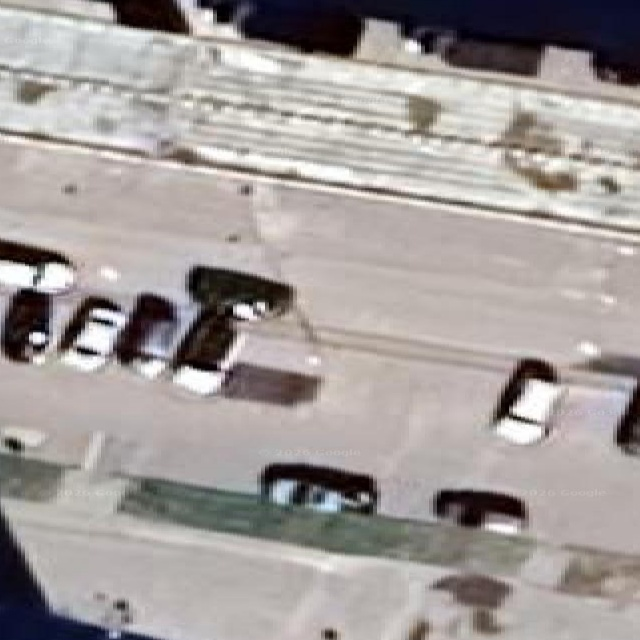car: (172, 309, 244, 395), (492, 359, 563, 444), (260, 463, 377, 513), (187, 266, 294, 320), (115, 293, 177, 378), (59, 297, 125, 371), (433, 489, 527, 533), (0, 240, 75, 294), (2, 289, 51, 363), (615, 383, 640, 455), (0, 426, 46, 452)
